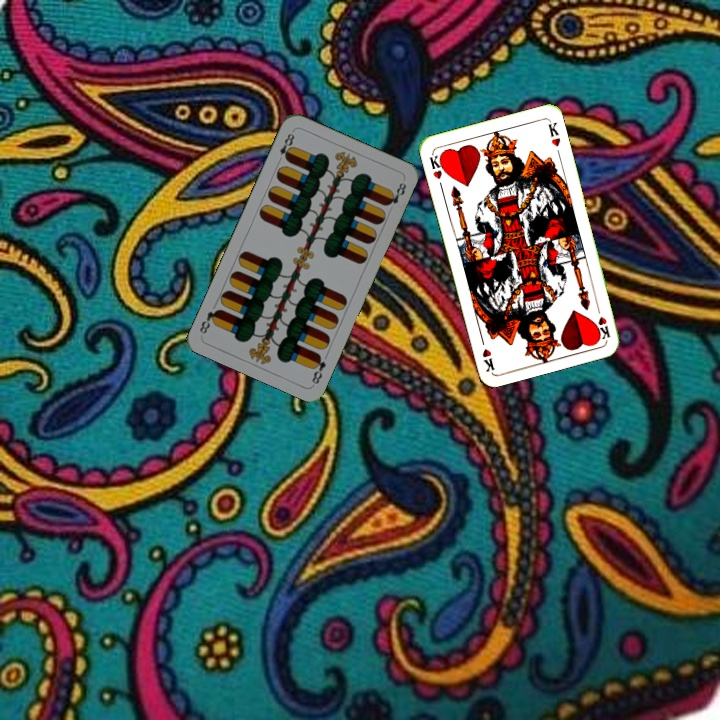E8: (273, 127, 297, 165), (307, 349, 331, 387)
HK: (425, 150, 448, 190), (592, 301, 613, 341)
